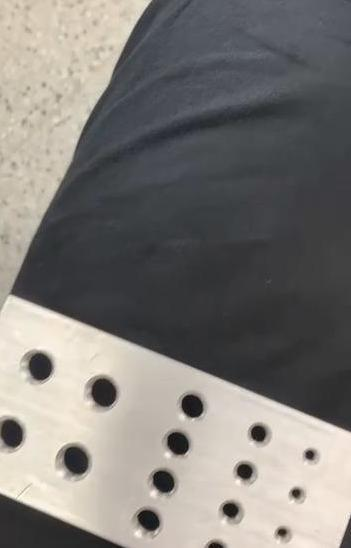hole: (53, 442, 95, 483), (17, 350, 58, 389), (84, 372, 123, 410), (128, 505, 166, 541), (144, 467, 180, 502), (175, 387, 210, 422), (0, 411, 28, 453), (160, 430, 194, 463), (216, 495, 246, 527), (229, 456, 260, 486), (242, 422, 272, 452), (270, 524, 292, 548), (300, 444, 322, 467), (286, 484, 307, 507), (198, 539, 229, 548)
